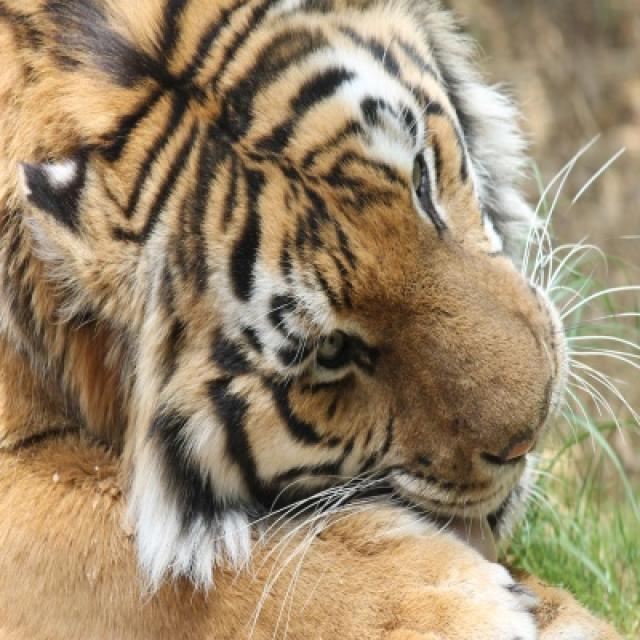Tiger: (9, 0, 610, 632)
